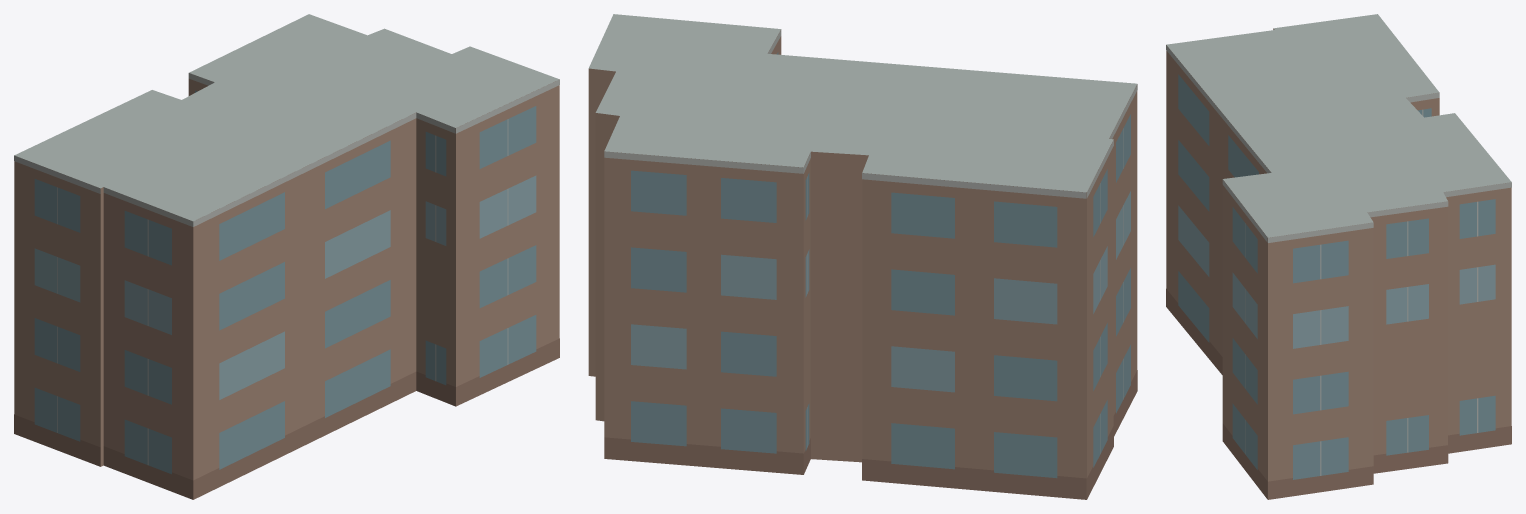
The model's file is survey-upis-32612597.glb.
3 views of the same model, side by side, from view 1: azimuth 30°, elevation 25°; view 2: azimuth 150°, elevation 25°; view 3: azimuth 270°, elevation 25° (orthographic). The views are drawn at different scales.
Parts seen in each view (by area): view 1: survey-upis-32612597.tmp; view 2: survey-upis-32612597.tmp; view 3: survey-upis-32612597.tmp.
Part boxes in pixels (x1,y1,x2,y2): survey-upis-32612597.tmp: [14, 14, 559, 499]; survey-upis-32612597.tmp: [588, 14, 1137, 499]; survey-upis-32612597.tmp: [1166, 14, 1511, 499].
Size of the model in its own units: 21.61 by 11.8 by 14.11.
